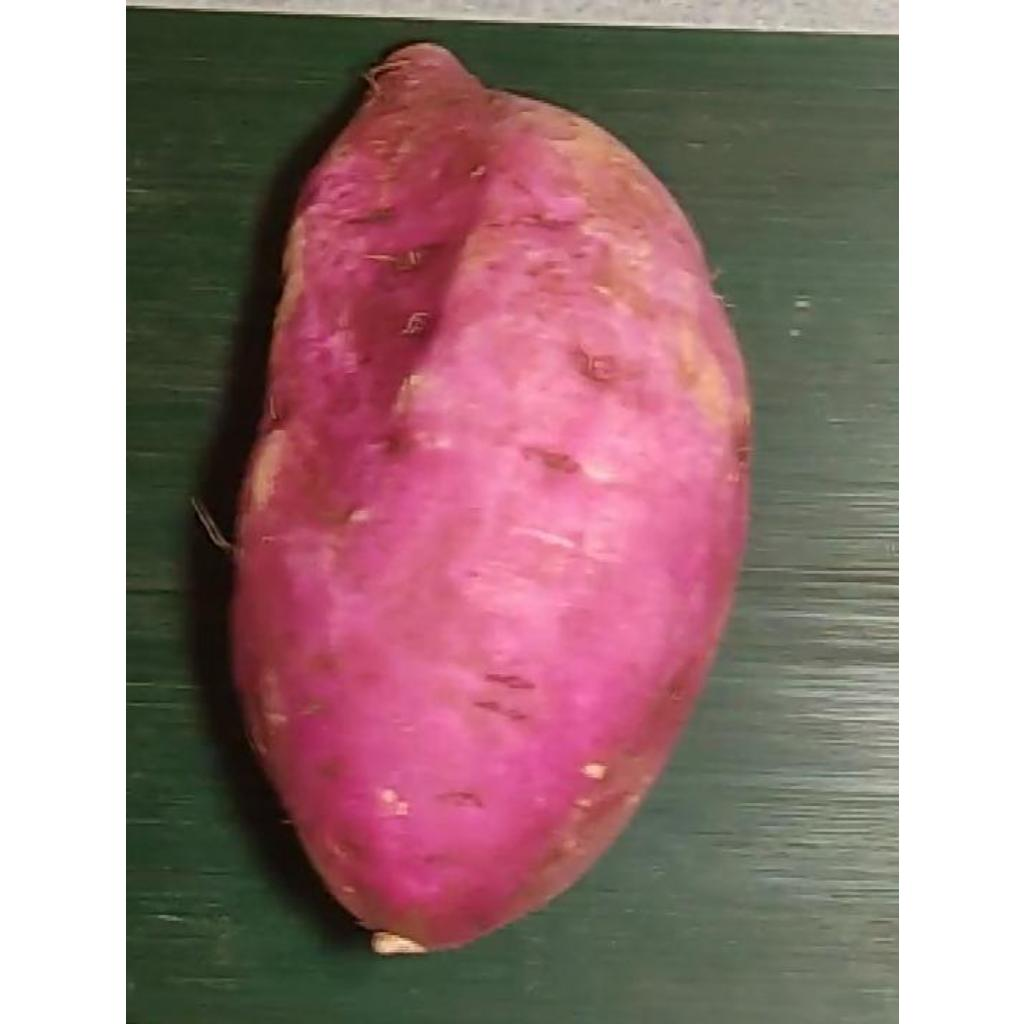Sweet Potato: (227, 44, 745, 958)
